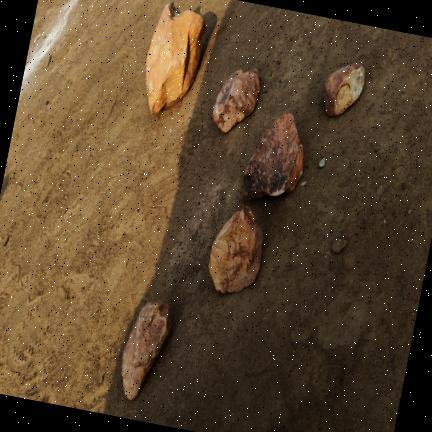Rocks: (145, 4, 205, 113), (242, 113, 302, 200), (121, 302, 170, 399), (208, 206, 261, 293), (212, 69, 258, 132), (323, 64, 364, 116), (331, 239, 346, 253), (318, 157, 324, 167)
